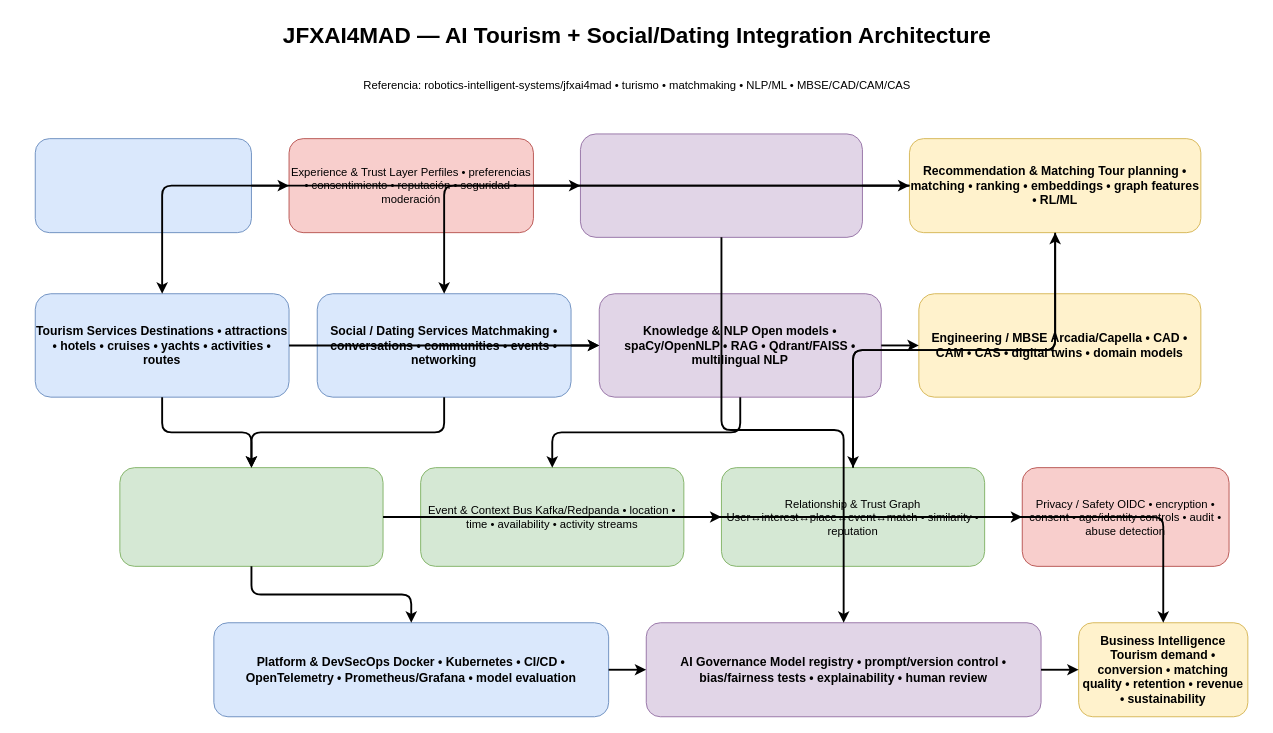
The diagram is 1273 pixels wide and 733 high, and some of its shapes have lost their labels. The shapes that lost their labels are listed below. From the top down, each one's box as (x1, y1, x2, y2) in pixels, then its label:
(34, 138, 251, 233): Usuarios / Clientes Web • Mobile • PWA • Chat • Mapas • Notificaciones
(580, 133, 862, 237): AI Orchestration LLM Gateway • Agent Router • RAG • MCP • Tool Registry • HITL
(119, 467, 383, 566): Data Platform PostgreSQL • Redis • object storage • analytics • vector DB
